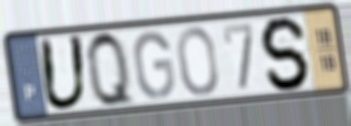7: (220, 20, 256, 94)
G: (131, 29, 177, 101)
O: (175, 25, 221, 99)
Q: (83, 28, 138, 110)
S: (259, 14, 313, 93)
U: (36, 33, 90, 113)
